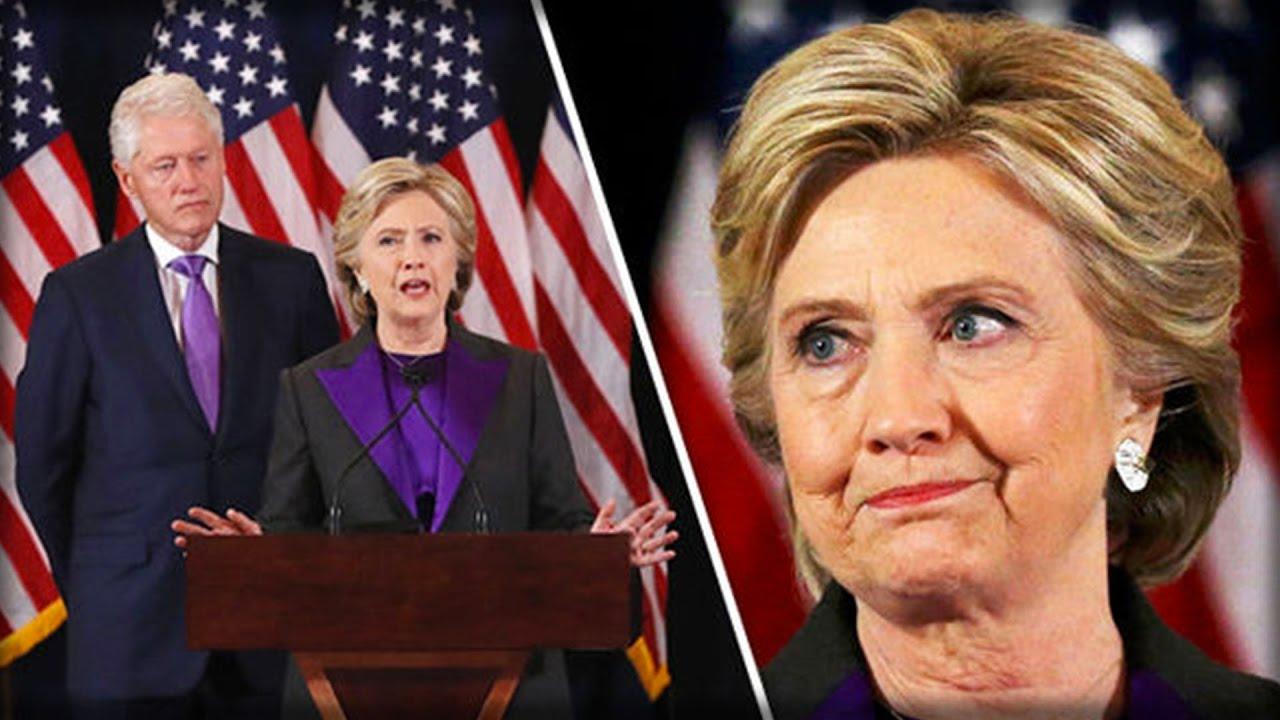sad: (778, 218, 1118, 606), (136, 126, 231, 228)
